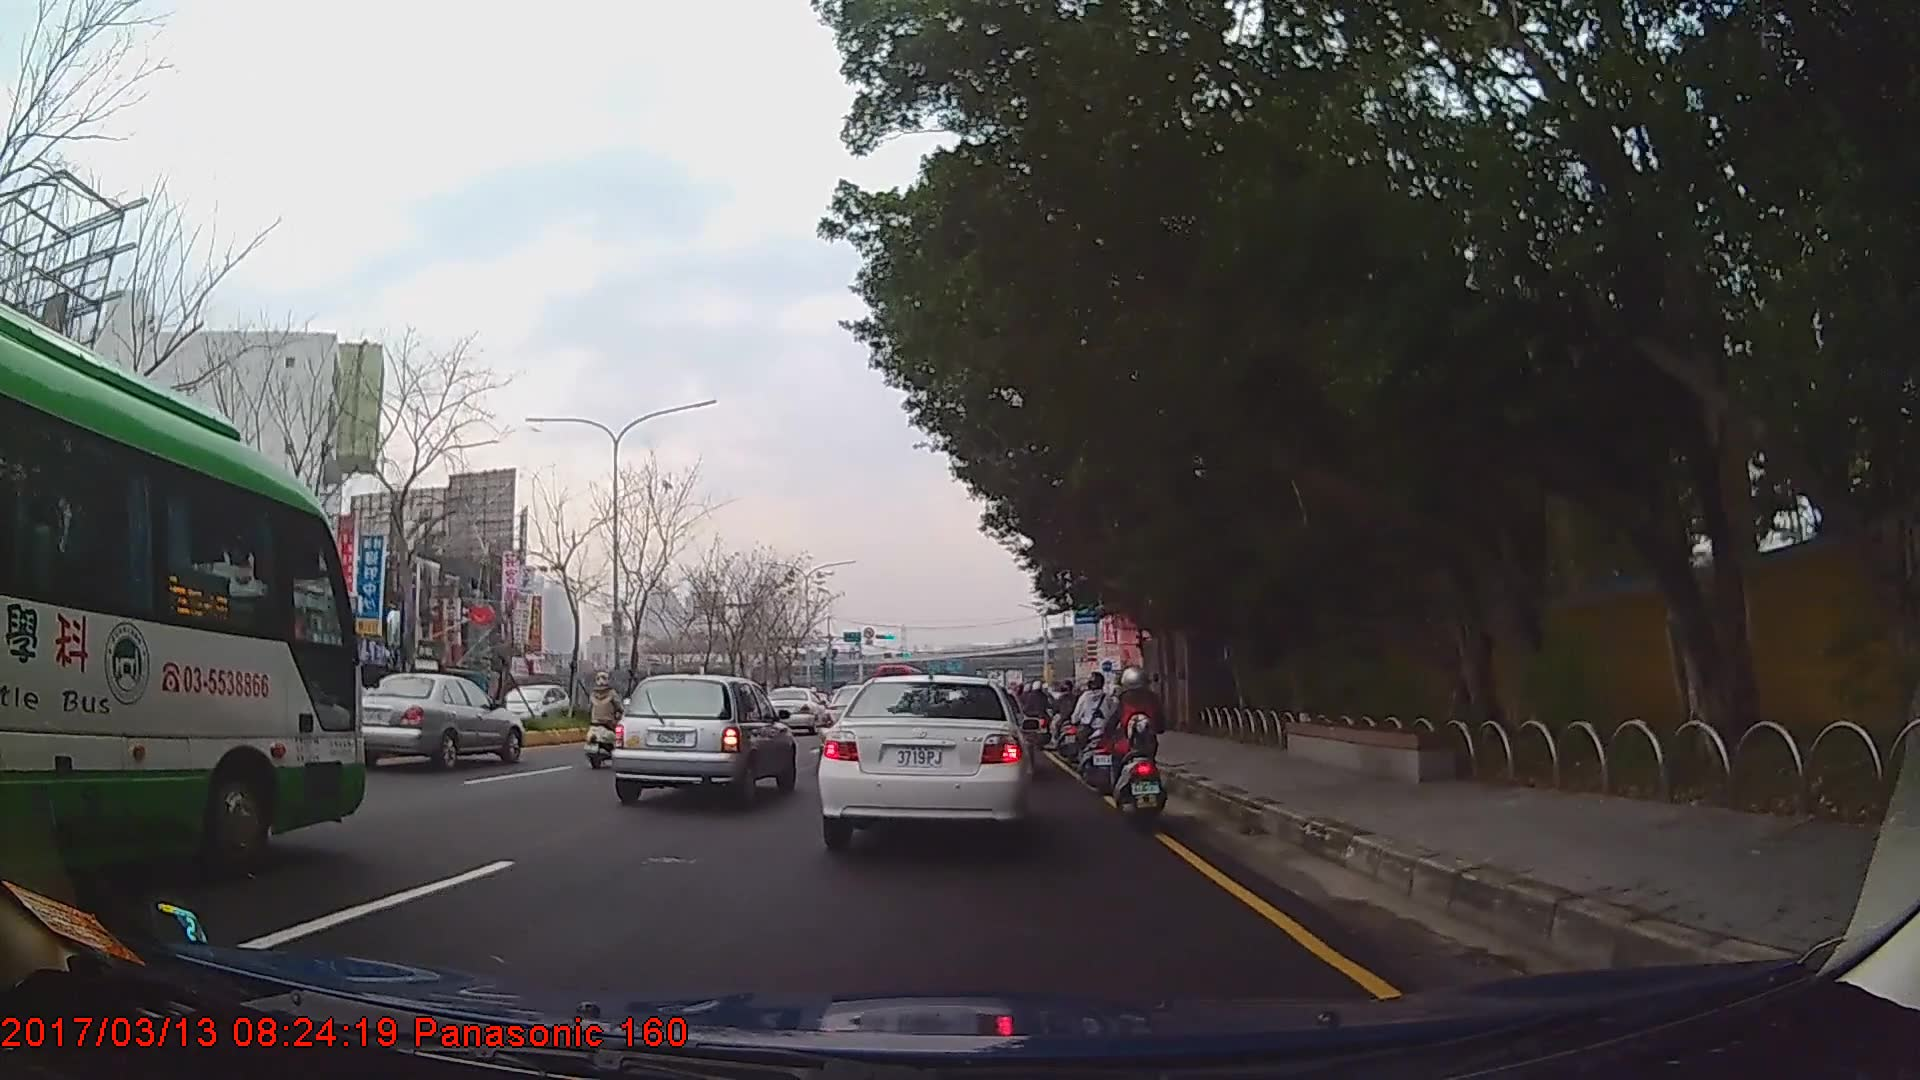rider: (1104, 661, 1164, 820), (1070, 669, 1116, 783), (590, 672, 628, 771), (1054, 680, 1081, 750)
vehicle: (0, 296, 366, 885), (818, 672, 1034, 851), (611, 672, 794, 804), (349, 670, 522, 768), (497, 683, 570, 731), (766, 682, 822, 727)
